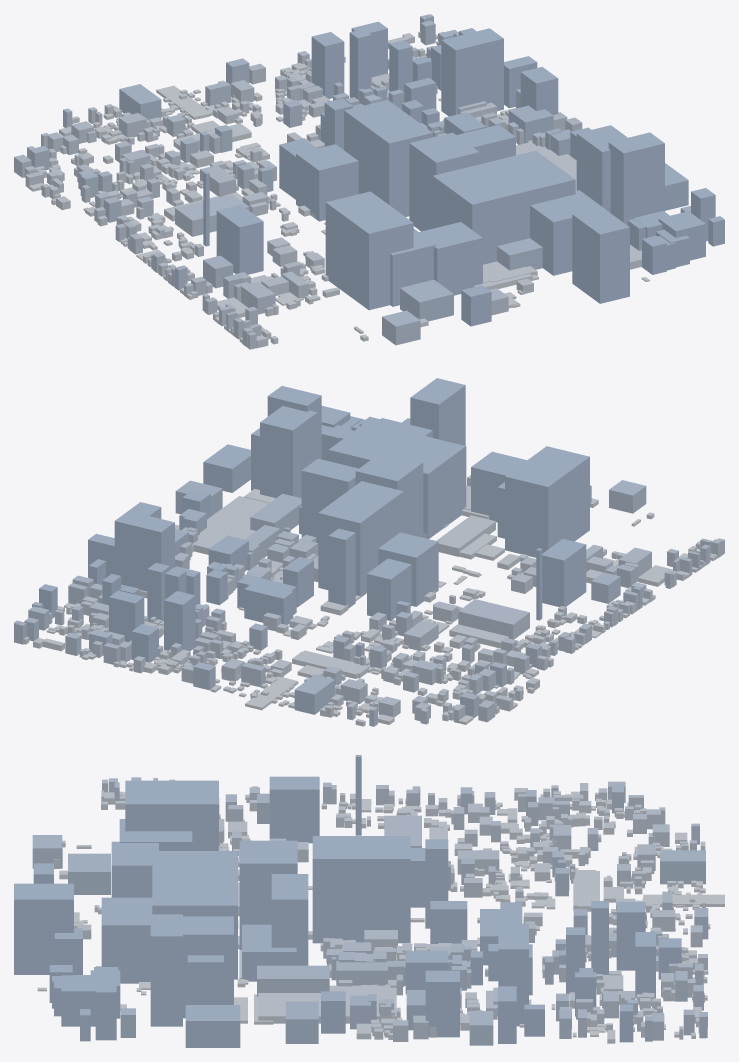
The picture shows the model from 3 angles, top to bottom: view 1: azimuth 30°, elevation 25°; view 2: azimuth 150°, elevation 25°; view 3: azimuth 270°, elevation 25°; orthographic projection. The views are drawn at different scales.
Bounding box in the file's own units: 1194 × 199 × 1416.
